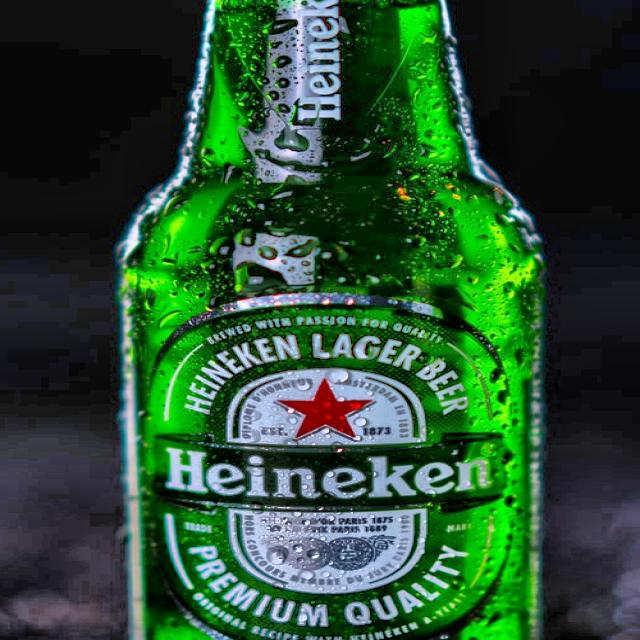glass: (113, 0, 542, 640)
